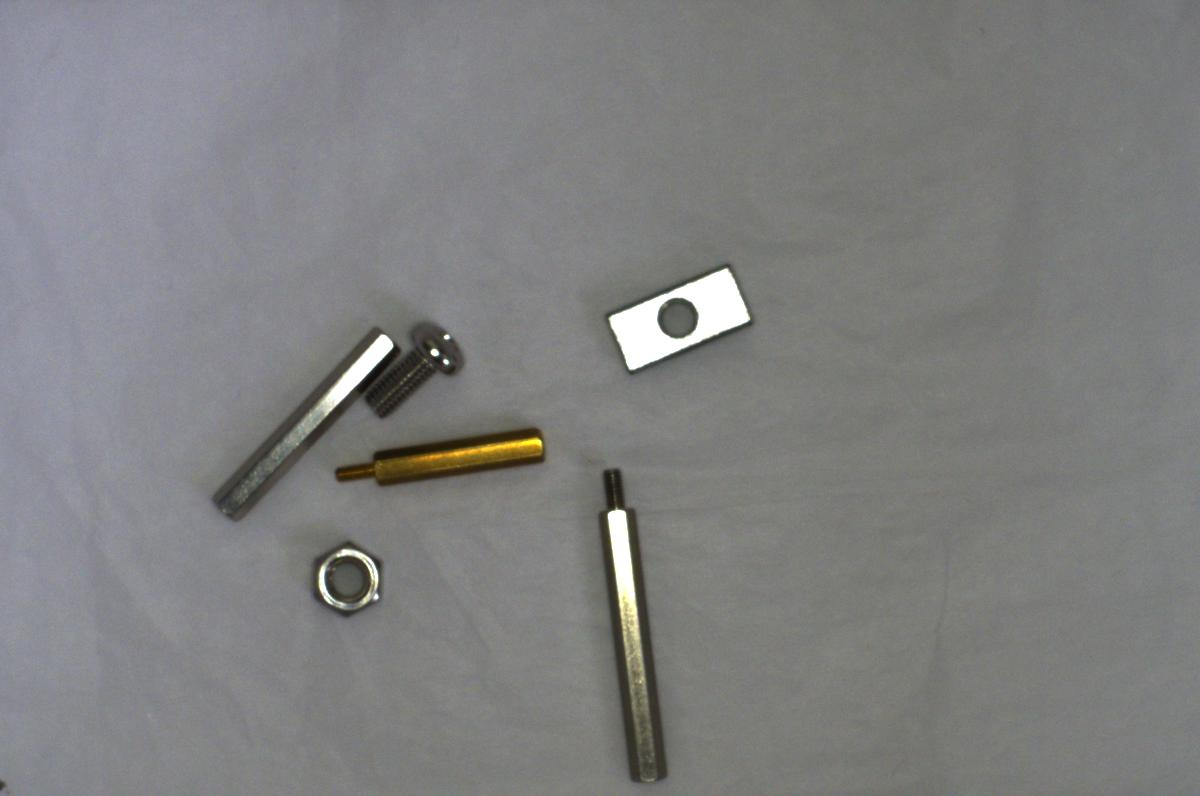Double hexagonal column: (208, 320, 393, 525)
Hexagon nut: (311, 536, 388, 625)
Hexagon pillar: (335, 428, 557, 488)
Hexagonal steel column: (590, 453, 671, 787)
Rectangular nut: (604, 261, 759, 374)
Round head screw: (362, 315, 474, 429)
